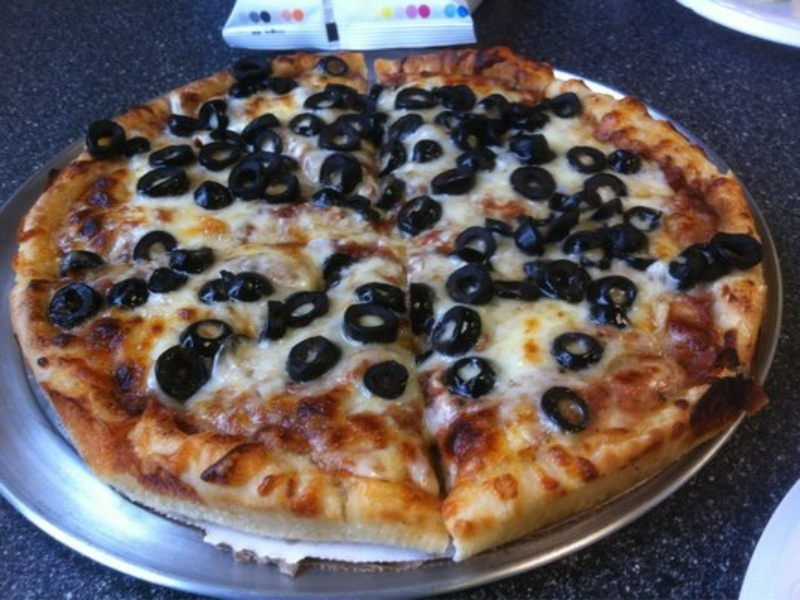olive noir: (153, 336, 213, 401), (537, 383, 595, 441), (340, 296, 405, 345), (181, 308, 241, 351), (44, 281, 100, 327), (285, 339, 342, 384), (549, 325, 605, 370), (533, 259, 590, 303), (317, 153, 376, 195), (446, 261, 495, 308), (130, 227, 187, 267), (432, 308, 481, 354), (444, 359, 497, 401), (133, 163, 190, 202), (83, 118, 131, 164), (566, 226, 621, 266), (274, 284, 326, 326), (133, 166, 192, 203), (394, 194, 445, 236), (592, 274, 637, 320), (202, 272, 268, 303), (367, 355, 409, 401), (388, 74, 437, 113), (511, 163, 565, 198), (504, 132, 559, 165), (454, 222, 500, 261), (428, 160, 480, 194), (190, 134, 243, 167), (196, 175, 239, 215), (257, 169, 304, 205), (512, 217, 555, 253), (506, 101, 557, 131), (193, 98, 231, 138), (104, 279, 154, 309), (588, 174, 629, 210), (389, 113, 430, 148), (284, 104, 322, 139), (565, 143, 607, 174)
